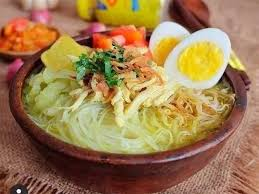soto: (16, 13, 259, 166)
